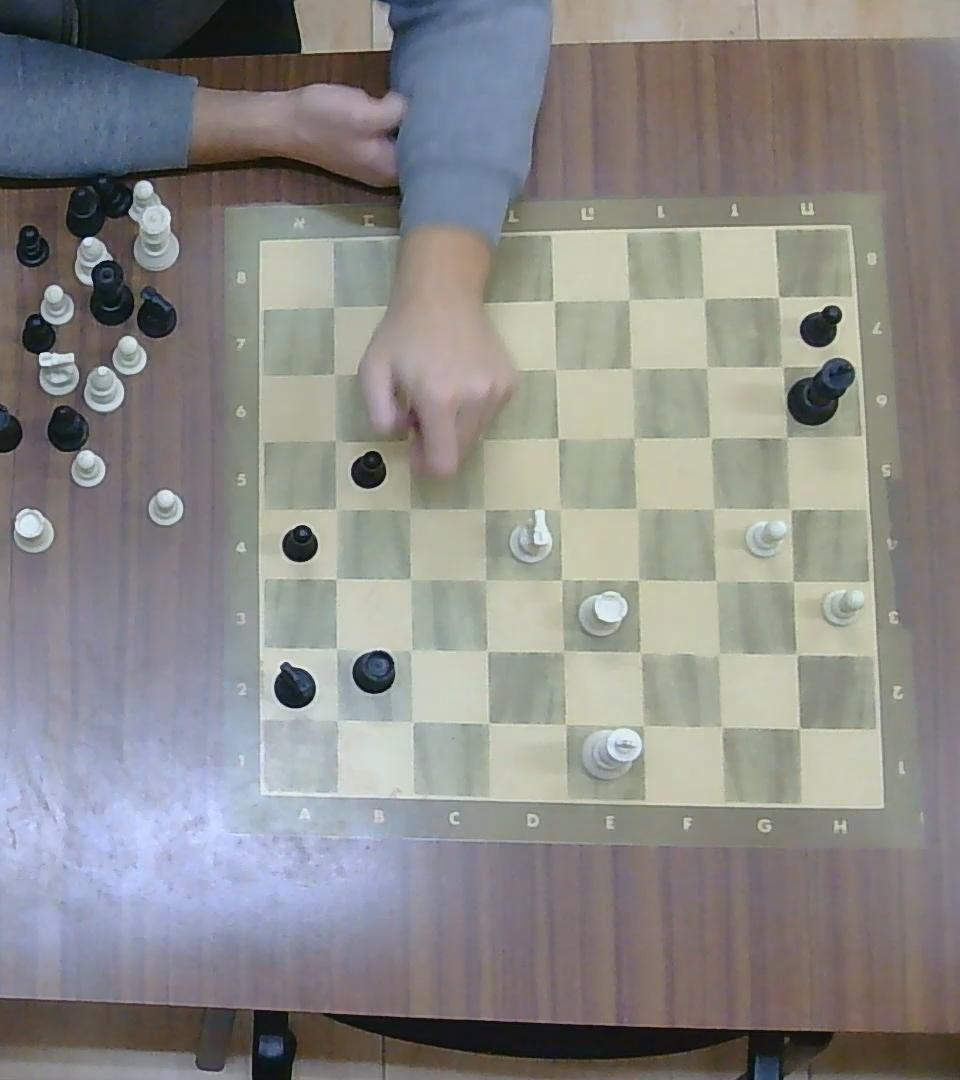xcorner: (703, 708, 737, 742), (624, 707, 659, 740), (781, 711, 815, 743), (701, 638, 734, 670), (624, 635, 656, 667), (780, 638, 812, 670), (470, 285, 501, 318), (471, 706, 502, 738), (548, 706, 579, 738), (547, 635, 578, 667), (386, 289, 417, 321), (699, 563, 730, 594), (321, 703, 352, 734), (471, 634, 501, 665), (622, 563, 652, 594), (698, 492, 728, 523), (547, 563, 577, 594), (622, 492, 652, 523), (321, 632, 351, 663), (615, 283, 645, 313), (397, 705, 427, 735), (470, 354, 500, 384), (776, 567, 807, 596), (470, 564, 500, 593), (539, 285, 568, 315), (776, 493, 806, 522), (545, 493, 574, 522), (617, 353, 646, 382), (319, 292, 348, 321), (471, 493, 499, 522), (396, 635, 424, 664), (321, 564, 350, 592), (769, 351, 797, 380), (691, 284, 719, 312), (693, 352, 721, 380), (621, 422, 648, 451), (698, 422, 725, 451), (545, 423, 573, 450), (542, 354, 570, 381), (396, 565, 423, 592), (772, 422, 800, 448), (467, 425, 495, 451), (396, 494, 422, 521), (324, 494, 350, 521), (395, 426, 423, 451), (323, 427, 348, 453), (391, 360, 416, 385), (767, 285, 791, 308), (323, 361, 347, 384)
